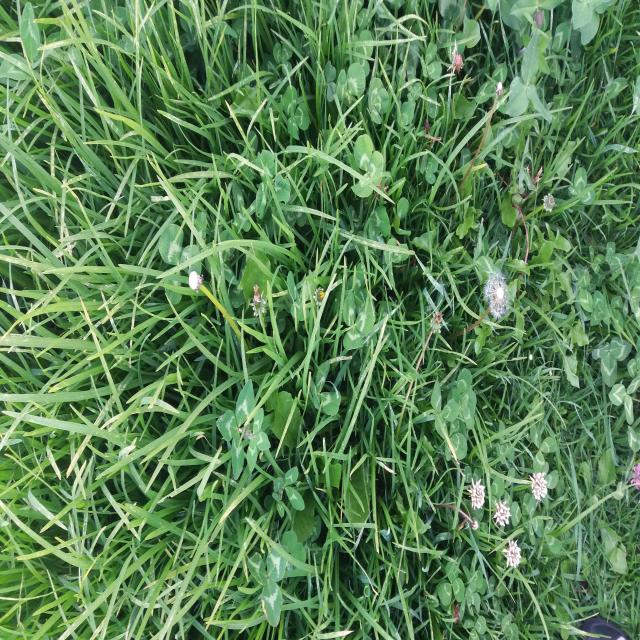Four Leaf Clover: (368, 77, 389, 124)
